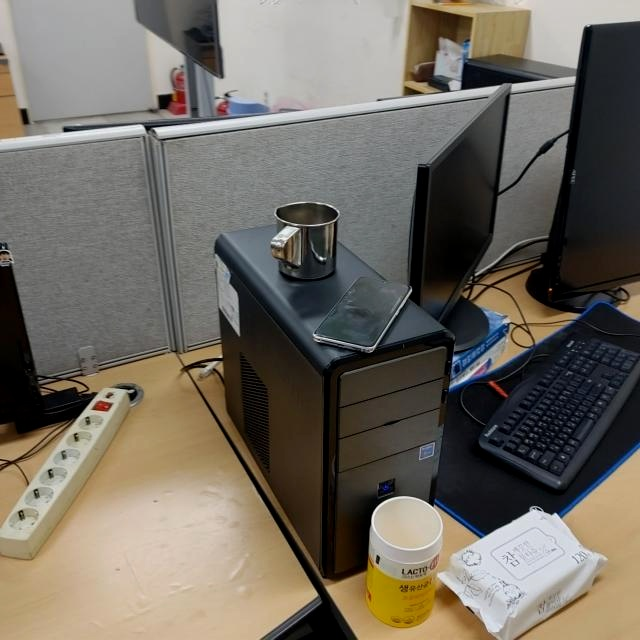cup: (272, 202, 342, 282)
phone: (310, 274, 414, 354)
